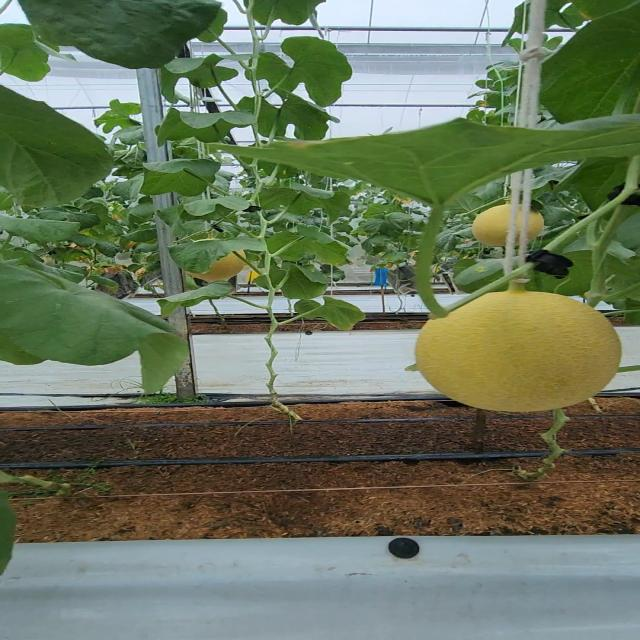Melon: (403, 288, 633, 416)
